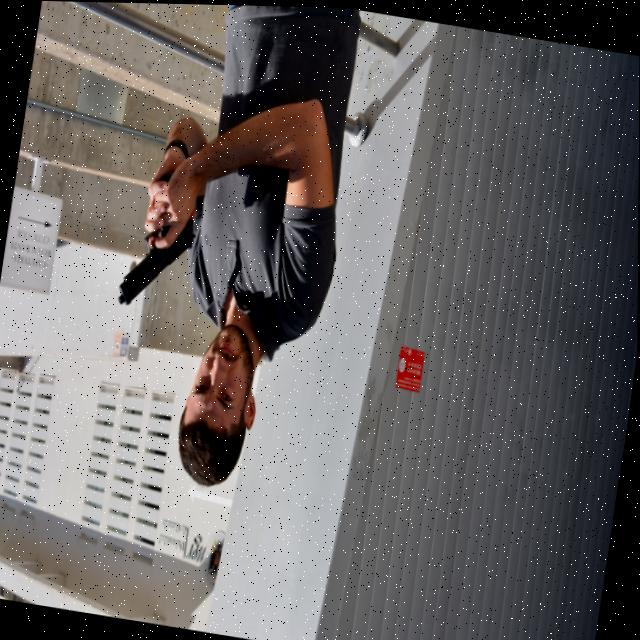pistol: (117, 208, 199, 315)
